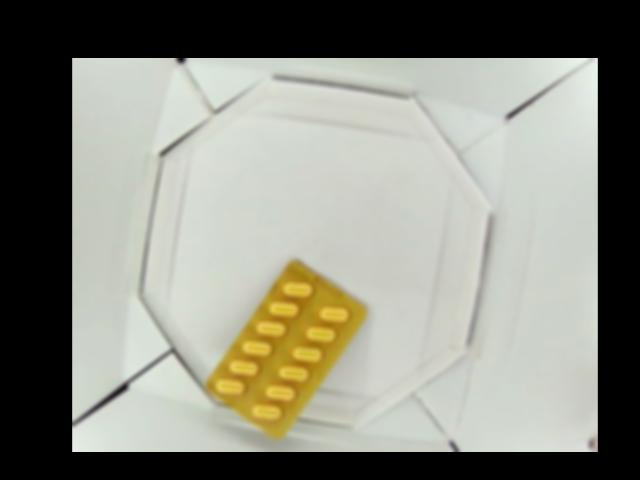Medicine: (206, 255, 367, 440)
